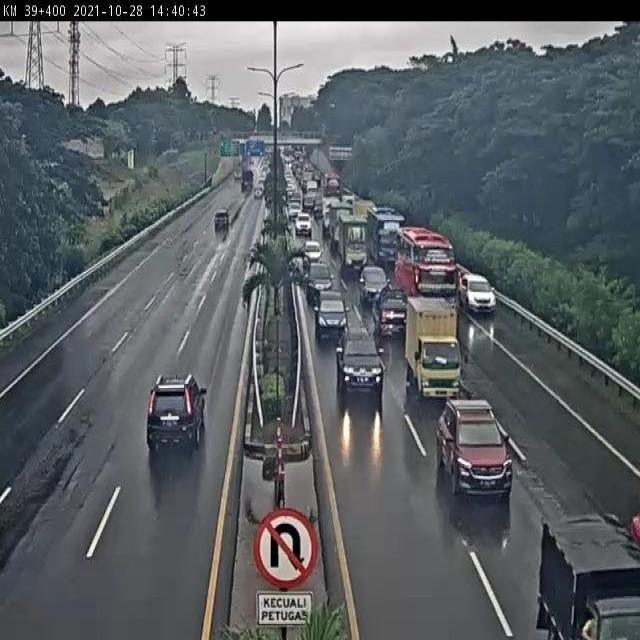bus-l-: (395, 224, 458, 316), (367, 206, 407, 266)
car: (436, 399, 514, 496), (146, 374, 206, 449), (337, 327, 384, 396), (370, 288, 411, 337), (459, 272, 498, 315), (315, 291, 347, 337), (358, 266, 390, 306), (305, 260, 333, 299), (300, 240, 324, 269)
truck-m-: (338, 215, 370, 276)
truck-s-: (407, 294, 464, 402)
